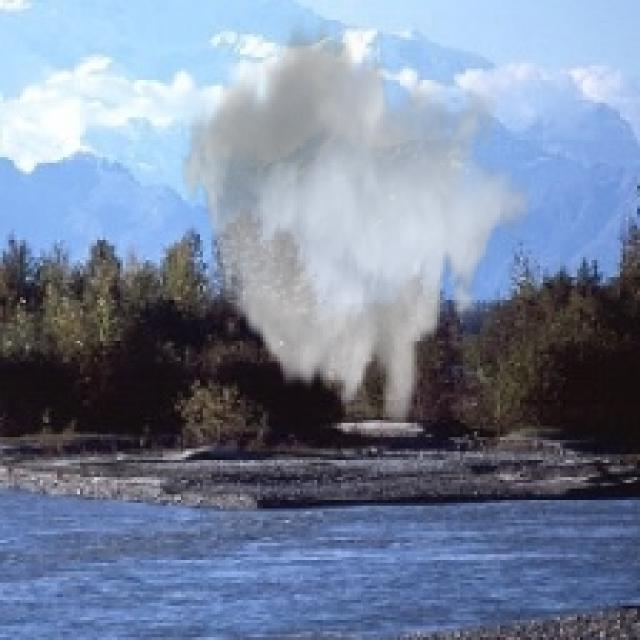Smoke: (177, 14, 532, 434)
